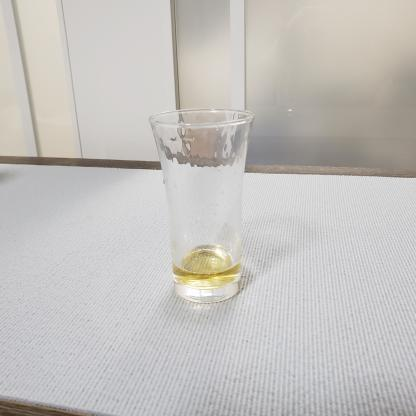glass: (144, 99, 276, 316)
